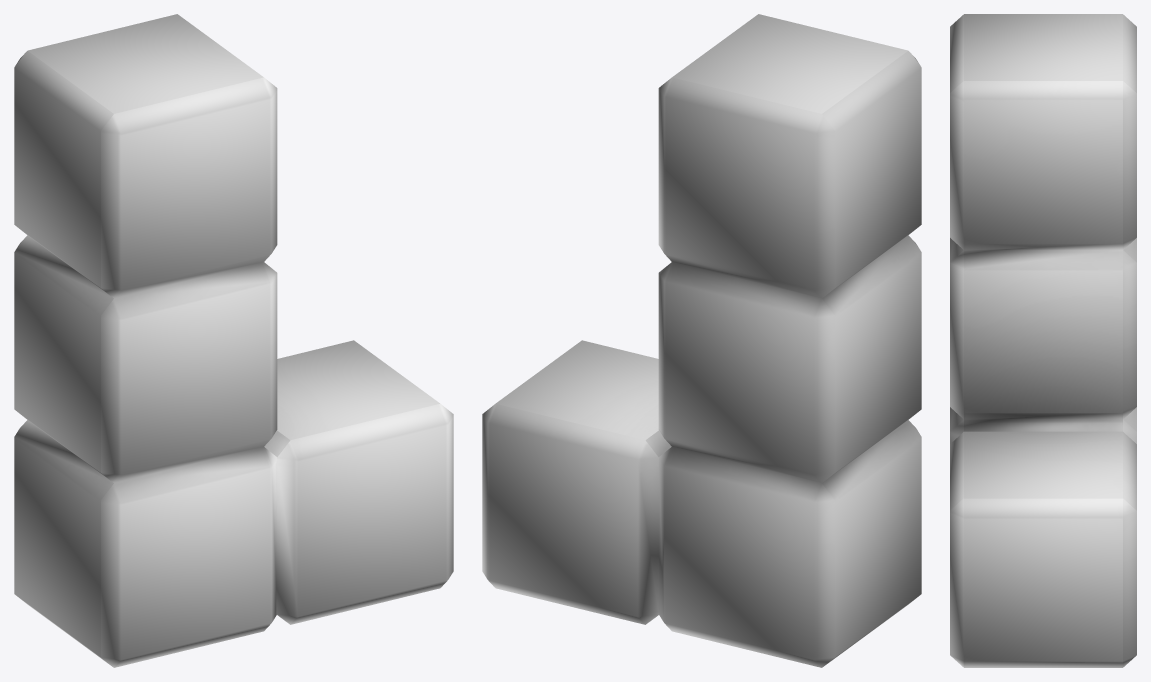
The picture shows the model from 3 angles, left to right: view 1: azimuth 30°, elevation 25°; view 2: azimuth 150°, elevation 25°; view 3: azimuth 270°, elevation 25°; orthographic projection. The views are drawn at different scales.
Visible parts, largest first — view 1: L-shape; view 2: L-shape; view 3: L-shape.
Part boxes in pixels (<box>): L-shape: <box>14,14,453,667</box>; L-shape: <box>482,14,921,667</box>; L-shape: <box>950,14,1136,667</box>.
Size of the model in its own units: 2 by 3 by 1.
